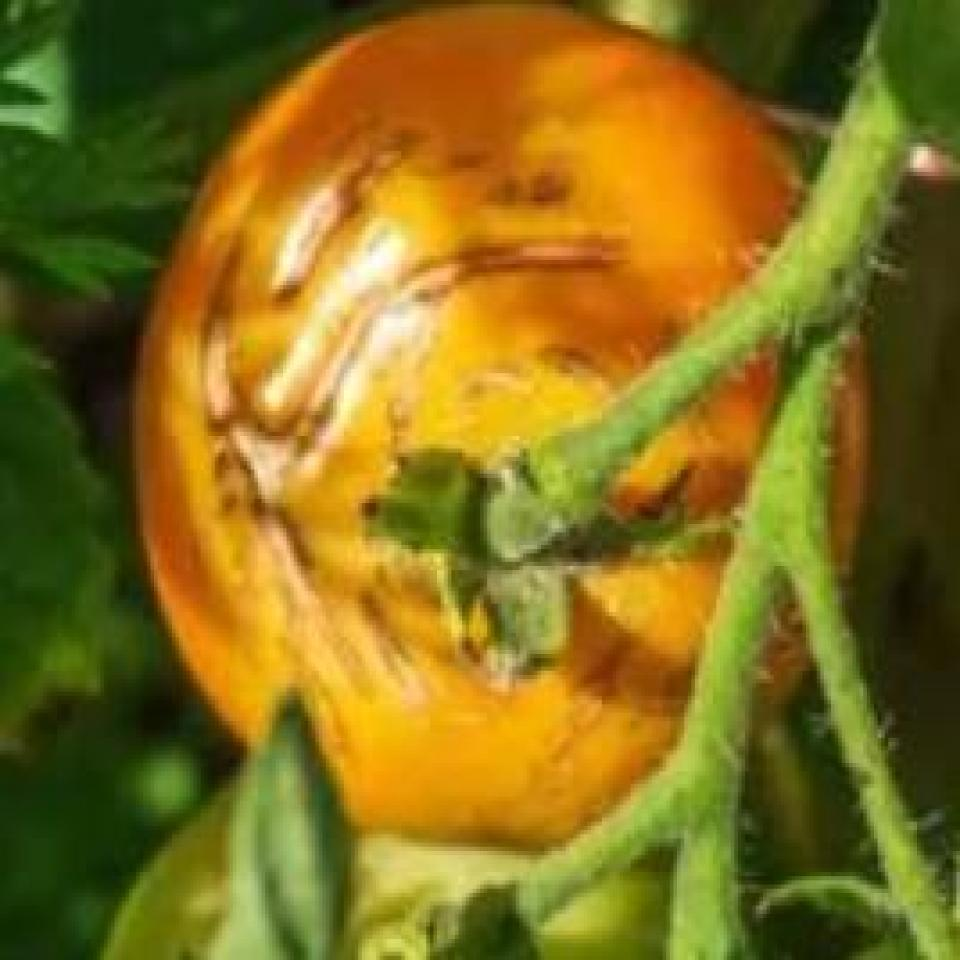Cracking: (154, 371, 700, 780), (176, 88, 646, 415)
